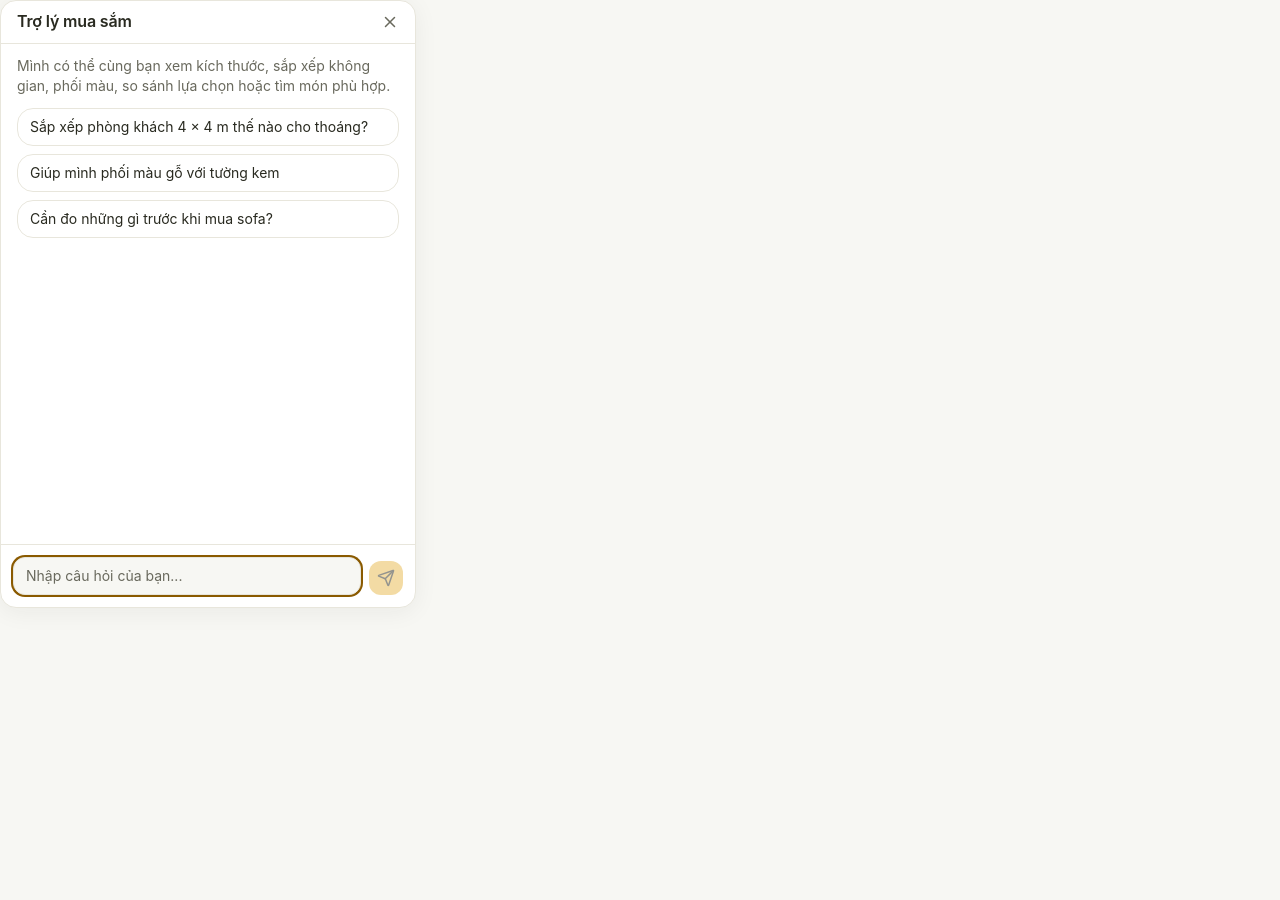
Test: ChatPanel › shows a meaningful, branded thinking state while waiting
Type "Tư vấn giúp mình" into the field labelled "Nhập câu hỏi" at [187, 576], box x1=13 y1=557 x2=361 y2=595
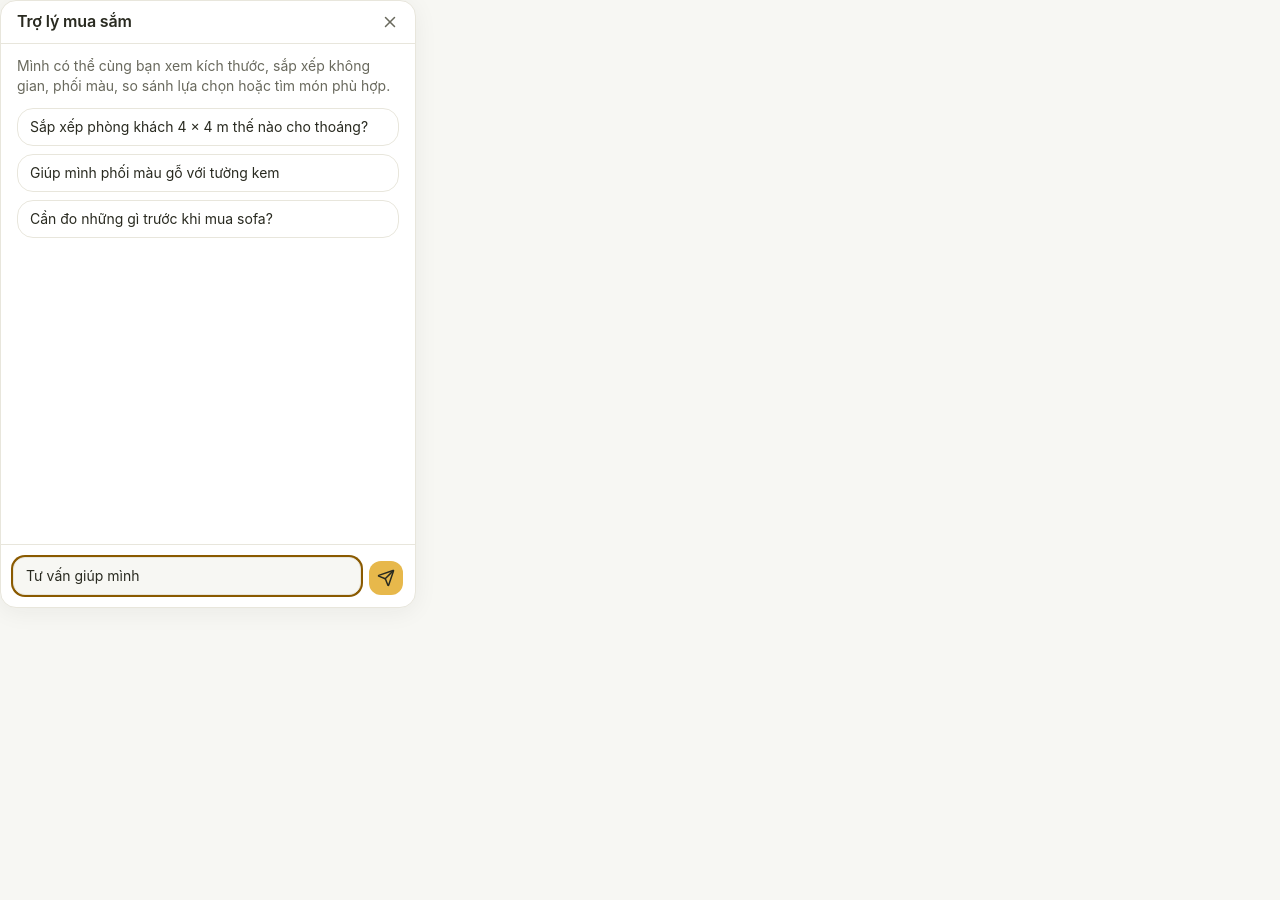
Click the button named "Gửi" at [386, 578], box x1=369 y1=561 x2=403 y2=595
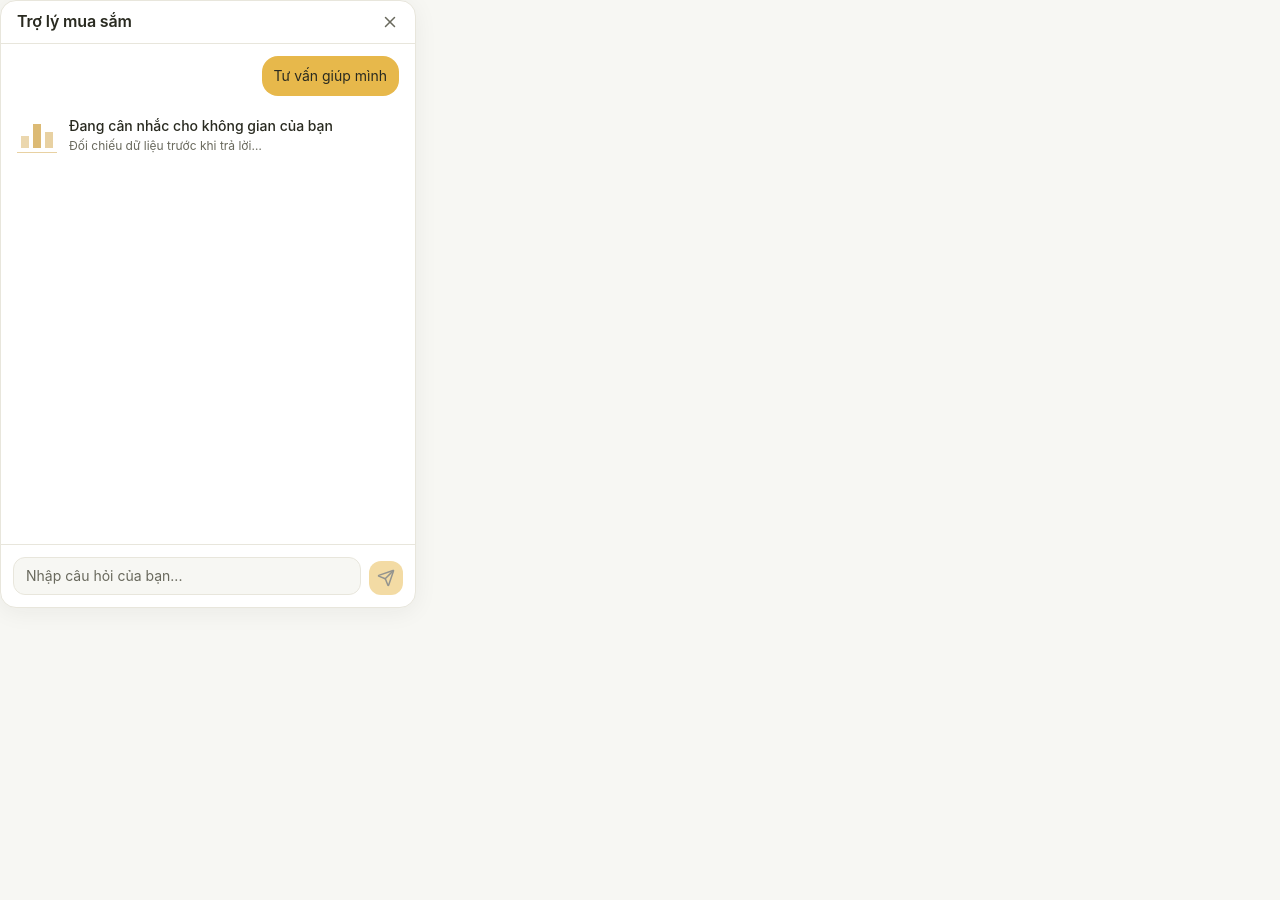
Result: the message shows "Đang cân nhắc cho không gian của bạn" at x1=69 y1=117 x2=333 y2=134
Result: the text "Đối chiếu dữ liệu trước khi trả lời…" is shown at x1=69 y1=138 x2=262 y2=153
